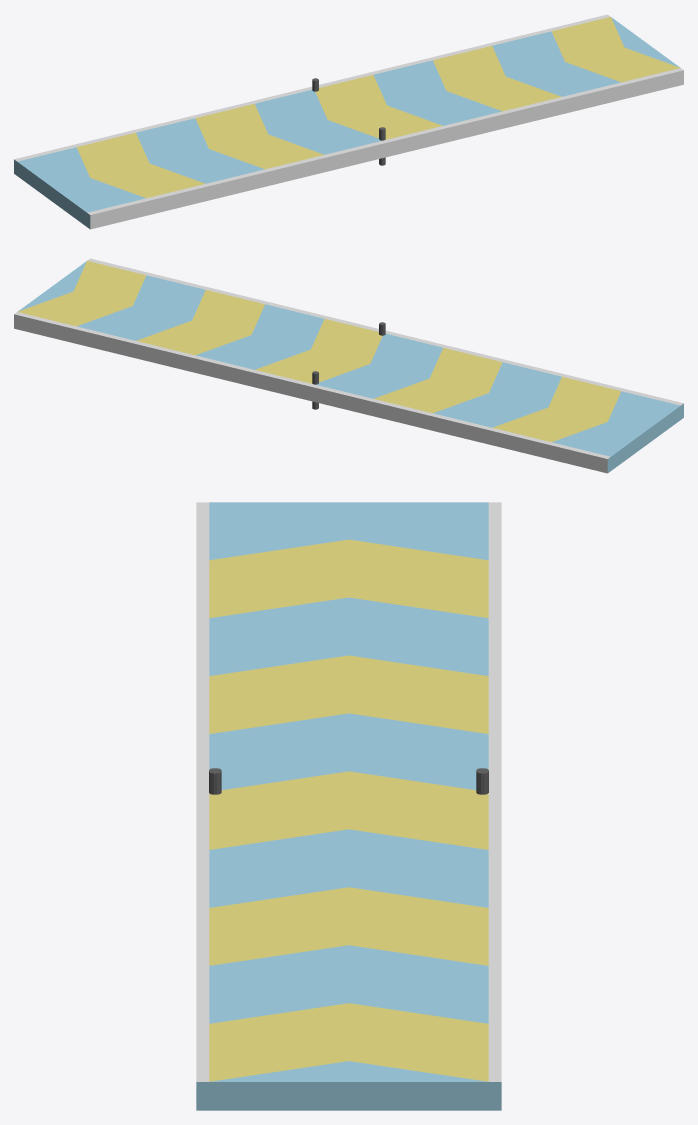
The model's file is ground02.fbx.
3 renders of one model, top to bottom at view 1: azimuth 30°, elevation 25°; view 2: azimuth 150°, elevation 25°; view 3: azimuth 270°, elevation 25°, orthographic. The views are drawn at different scales.
Visible parts, largest first — view 1: ground02; view 2: ground02; view 3: ground02.
Part boxes in pixels (x1=…): ground02: x1=14, y1=14, x2=683, y2=229; ground02: x1=14, y1=258, x2=683, y2=473; ground02: x1=196, y1=502, x2=501, y2=1110.
Bounding box in the file's own units: 782 × 44.85 × 174.
